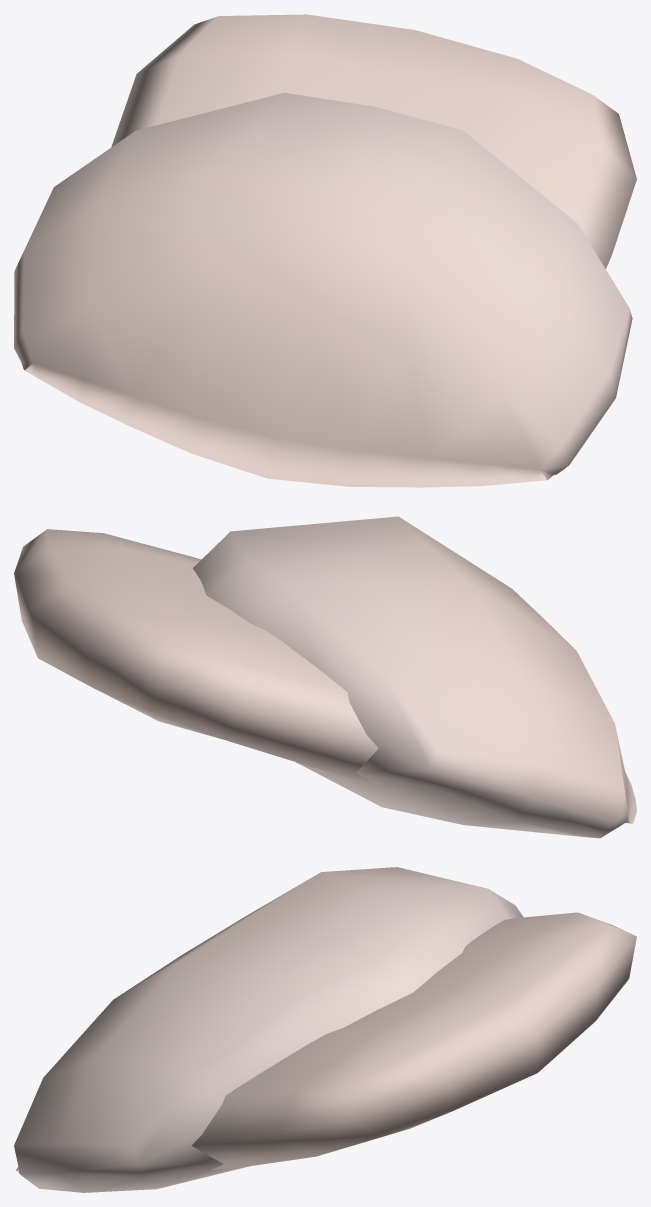
Rendered from furina.005.obj.
3 renders of one model, top to bottom at view 1: azimuth 30°, elevation 25°; view 2: azimuth 150°, elevation 25°; view 3: azimuth 270°, elevation 25°, orthographic. The views are drawn at different scales.
Parts seen in each view (by area): view 1: furina.005; view 2: furina.005; view 3: furina.005.
Boxes of the visible parts, bbox=[...] form: furina.005: bbox=[14, 14, 636, 487]; furina.005: bbox=[14, 516, 636, 838]; furina.005: bbox=[14, 867, 636, 1192].
Bounding box in the file's own units: 0.0545 × 0.0231 × 0.0518.
